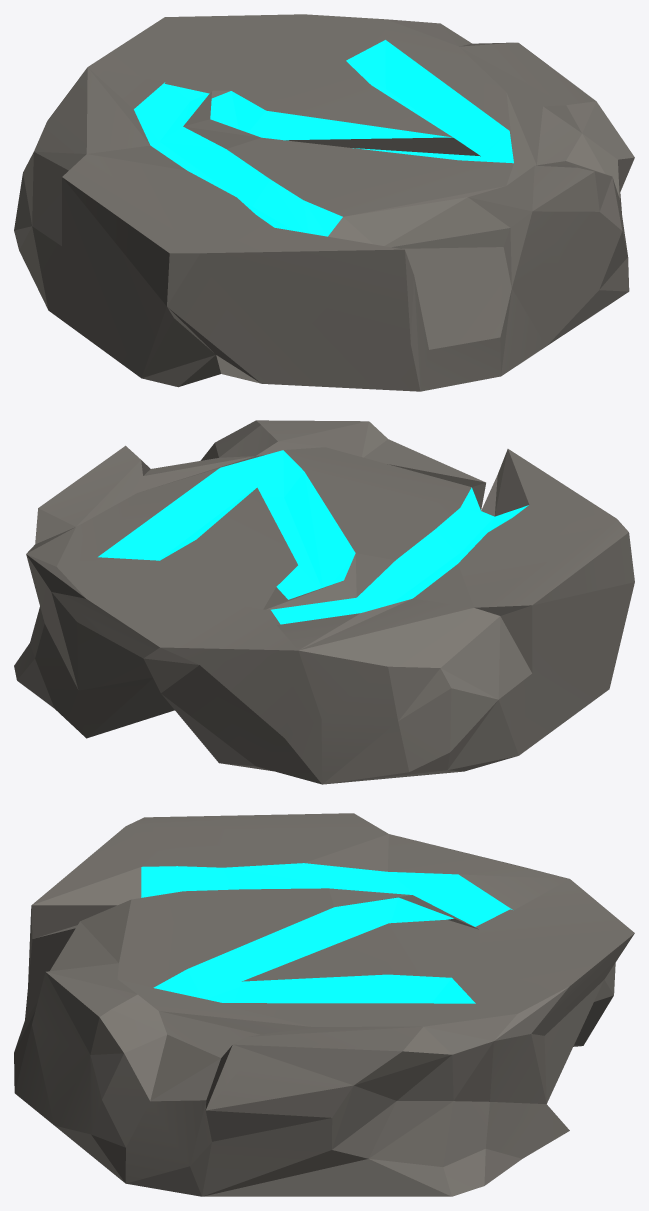
3 views of the same model, one above another, from view 1: azimuth 30°, elevation 25°; view 2: azimuth 150°, elevation 25°; view 3: azimuth 270°, elevation 25° (orthographic). The views are drawn at different scales.
Parts seen in each view (by area): view 1: Obj3d66-1649282-32-151; view 2: Obj3d66-1649282-32-151; view 3: Obj3d66-1649282-32-151.
Part boxes in pixels (bbox=[...]): Obj3d66-1649282-32-151: bbox=[14, 14, 634, 391]; Obj3d66-1649282-32-151: bbox=[14, 420, 634, 784]; Obj3d66-1649282-32-151: bbox=[14, 813, 634, 1196].
Size of the model in its own units: 998 by 281 by 1058.
1 material, 1 textured.
